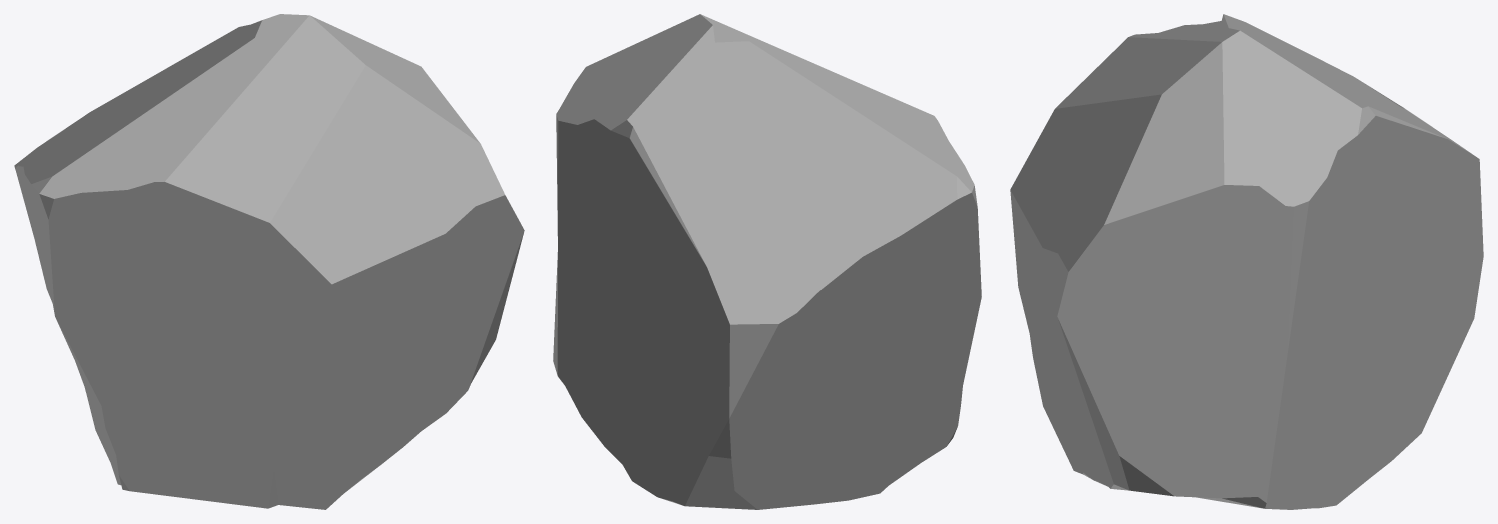
The model's file is rock_001.fbx.
The picture shows the model from 3 angles, left to right: view 1: azimuth 30°, elevation 25°; view 2: azimuth 150°, elevation 25°; view 3: azimuth 270°, elevation 25°; orthographic projection. The views are drawn at different scales.
Visible parts, largest first — view 1: Rock_001_LOD0; view 2: Rock_001_LOD0; view 3: Rock_001_LOD0.
Boxes of the visible parts, x1,y1,x2,y2 form: Rock_001_LOD0: (14,14,524,509); Rock_001_LOD0: (553,14,981,509); Rock_001_LOD0: (1010,14,1483,509).
Size of what is drawn, in the model's own units: 173 by 184 by 164.
